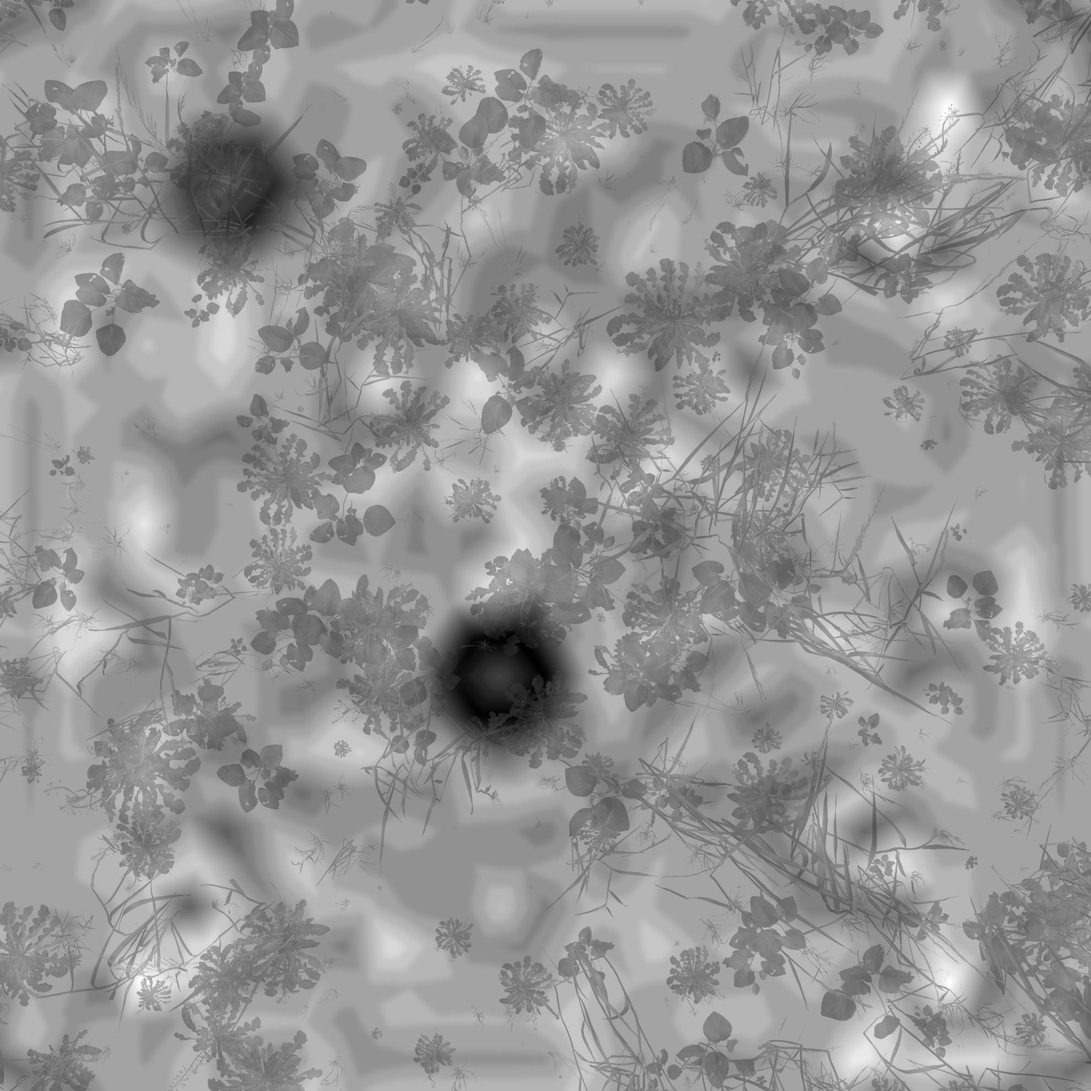landmine: (433, 600, 580, 758), (159, 128, 295, 252)
